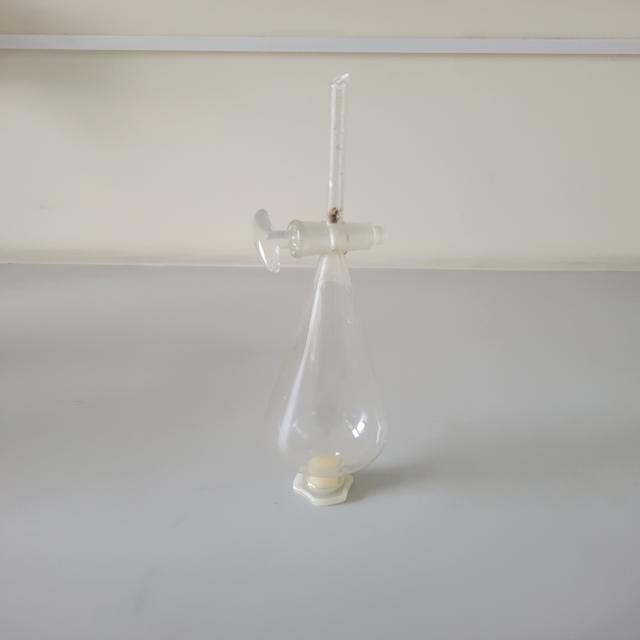Separating_Funnel: (188, 58, 450, 527)
